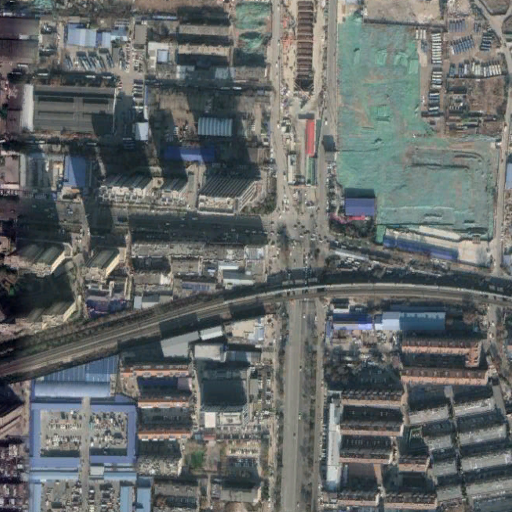cw: (337, 18, 512, 244), (233, 3, 271, 51)
